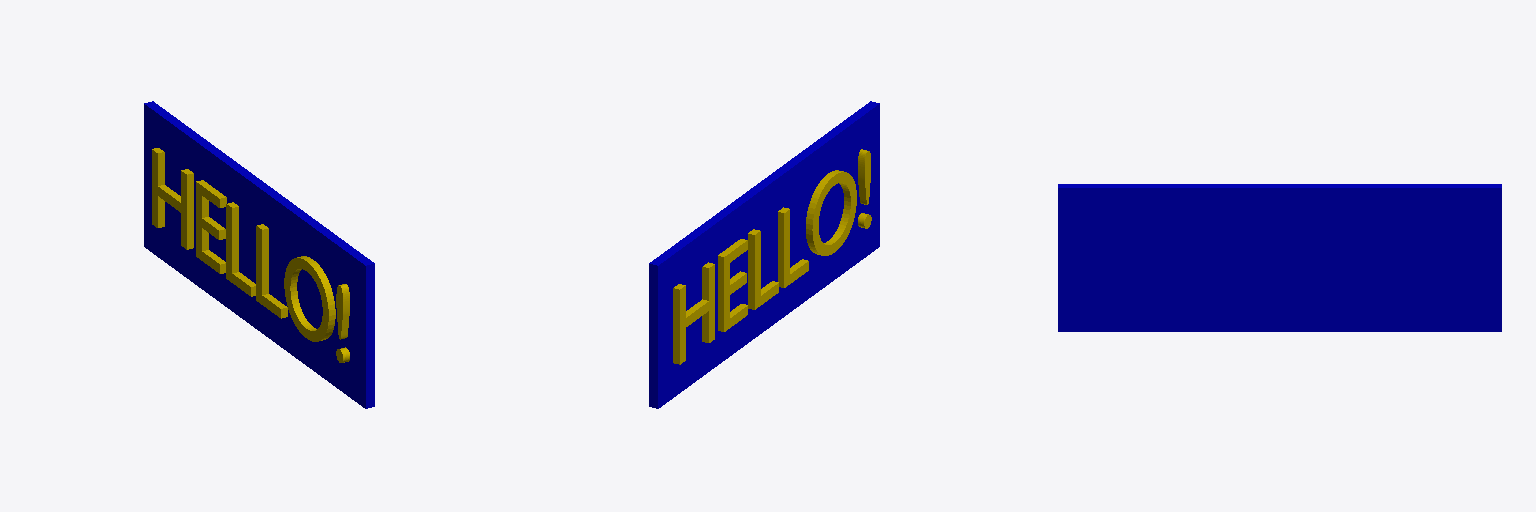
The model's file is hellotile.obj.
3 renders of one model, left to right at view 1: azimuth 30°, elevation 25°; view 2: azimuth 150°, elevation 25°; view 3: azimuth 270°, elevation 25°, orthographic.
Visible parts, largest first — view 1: Cube, Text; view 2: Cube, Text; view 3: Cube.
Boxes of the visible parts, <box> form: Cube: <box>144,101,374,408</box>; Text: <box>152,148,349,362</box>; Cube: <box>649,101,879,408</box>; Text: <box>673,149,871,364</box>; Cube: <box>1058,184,1501,331</box>.
Bounding box in the file's own units: 0.2363 × 2 × 5.6.